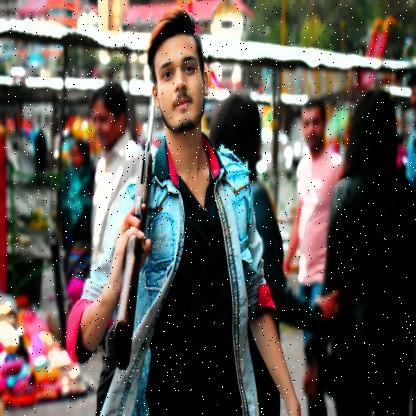rifle: (111, 82, 159, 374)
